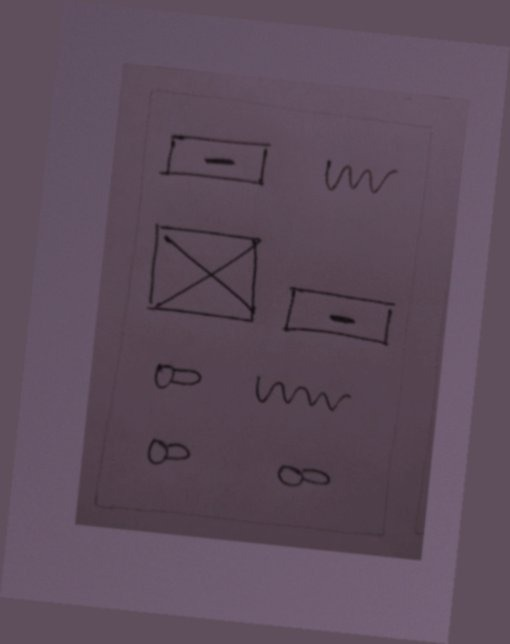button: (272, 277, 402, 354), (154, 127, 276, 193)
image: (139, 217, 271, 329)
switch: (140, 429, 207, 473), (273, 453, 338, 498), (144, 359, 208, 398)
text: (243, 368, 359, 421), (313, 148, 406, 207)
